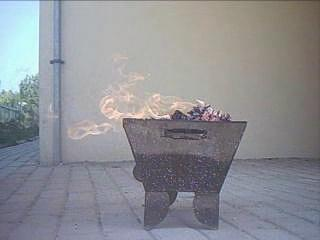fire: (65, 60, 216, 135)
